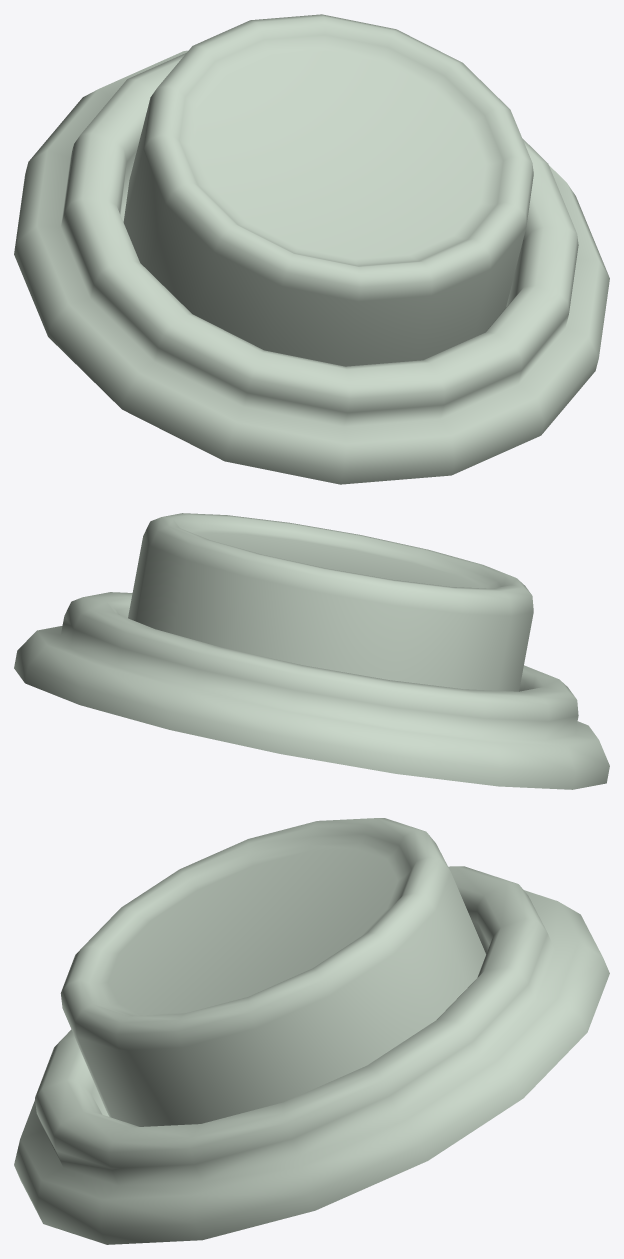
The model's file is Small_Button.fbx.
3 renders of one model, top to bottom at view 1: azimuth 30°, elevation 25°; view 2: azimuth 150°, elevation 25°; view 3: azimuth 270°, elevation 25°, orthographic. The views are drawn at different scales.
Visible parts, largest first — view 1: Small_Button, SmallButton-Contour; view 2: SmallButton-Contour, Small_Button; view 3: Small_Button, SmallButton-Contour.
Boxes of the visible parts, x1,y1,x2,y2 form: Small_Button: (123,14,533,366); SmallButton-Contour: (14,50,609,484); SmallButton-Contour: (14,592,609,789); Small_Button: (128,513,533,691); Small_Button: (60,818,485,1126); SmallButton-Contour: (14,866,609,1244).
Bounding box in the file's own units: 0.4824 × 0.2725 × 0.4548.
